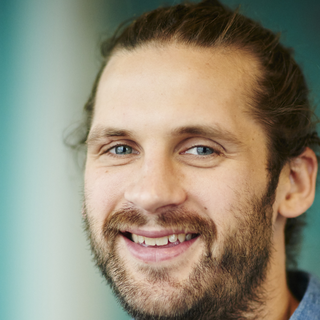eye: (175, 139, 227, 164), (97, 138, 142, 164)
